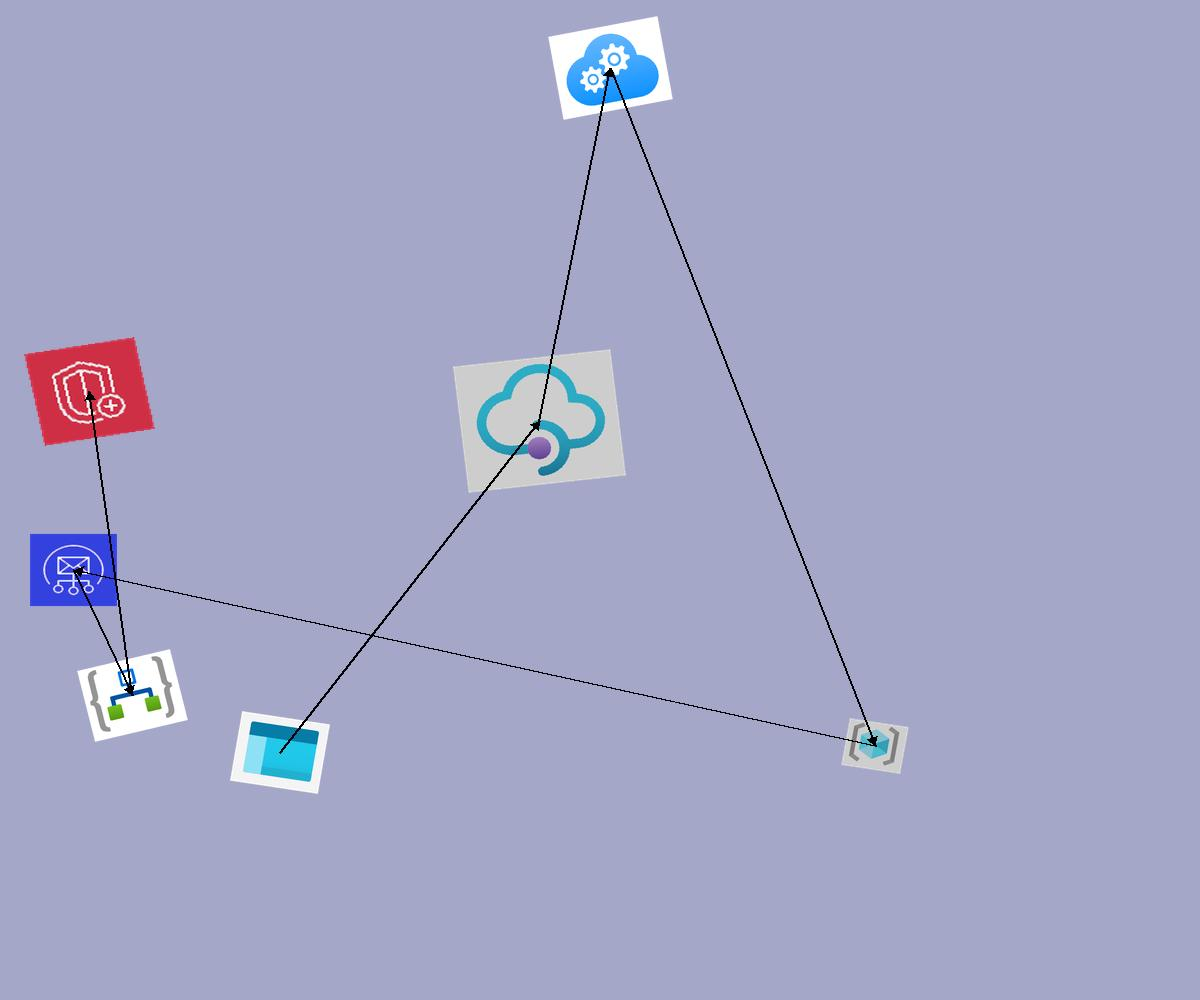AWS-Shield: (24, 337, 155, 446)
AWS-Simple-Email-Service: (29, 533, 118, 607)
Azure_api_gateway: (453, 349, 626, 493)
Azure_cloud_services: (548, 16, 673, 120)
Azure_integration-204-Logic-Apps: (77, 649, 188, 742)
Azure_management-portal: (230, 711, 330, 794)
Azure_resource_group: (841, 718, 909, 774)
